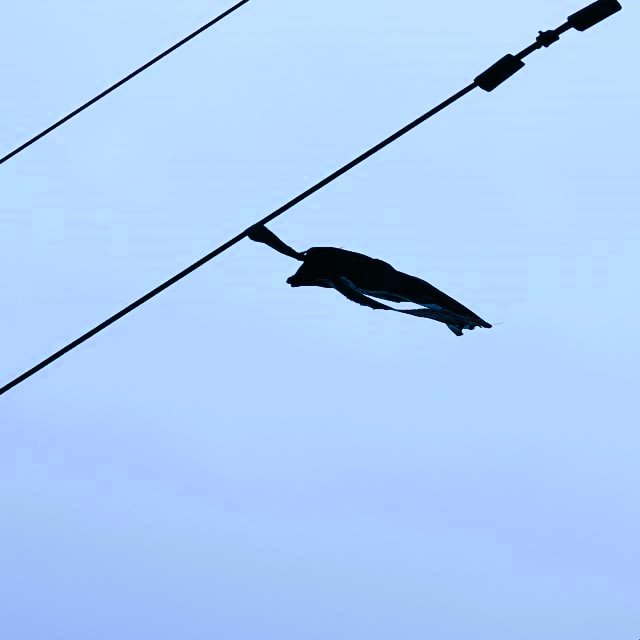wire foreign body: (235, 209, 491, 346)
